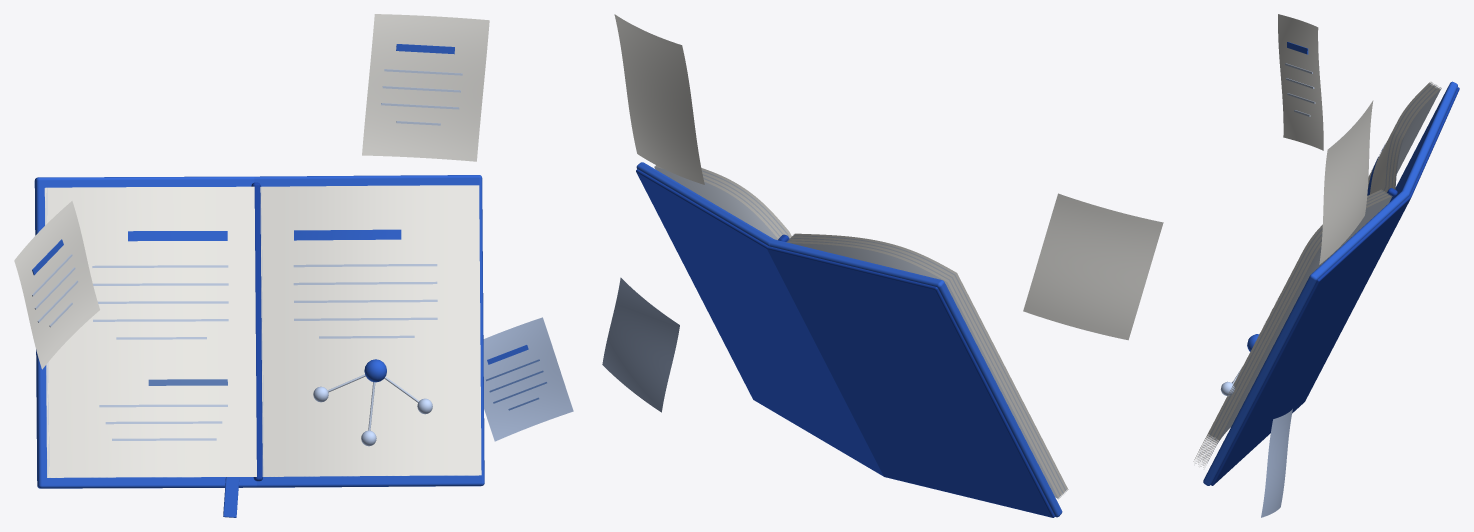
The model's file is login-book.glb.
3 renders of one model, left to right at view 1: azimuth 30°, elevation 25°; view 2: azimuth 150°, elevation 25°; view 3: azimuth 270°, elevation 25°, orthographic. The views are drawn at different scales.
Visible parts, largest first — view 1: Book, FloatingPaper2, FloatingPaper1, FloatingPaper3; view 2: Book, FloatingPaper1, FloatingPaper2, FloatingPaper3; view 3: Book, FloatingPaper1, FloatingPaper2, FloatingPaper3.
Part boxes in pixels (box(x1,y1,x2,y2)): Book: box(34, 175, 484, 517); FloatingPaper2: box(362, 14, 489, 161); FloatingPaper1: box(14, 201, 99, 369); FloatingPaper3: box(483, 317, 573, 441); Book: box(636, 162, 1068, 517); FloatingPaper1: box(1023, 193, 1163, 340); FloatingPaper2: box(614, 14, 704, 184); FloatingPaper3: box(602, 277, 679, 412); Book: box(1193, 81, 1459, 485); FloatingPaper1: box(1278, 14, 1323, 150); FloatingPaper2: box(1319, 100, 1373, 264); FloatingPaper3: box(1261, 409, 1292, 517).
Bounding box in the file's own units: 6.02 × 4.37 × 2.75.
